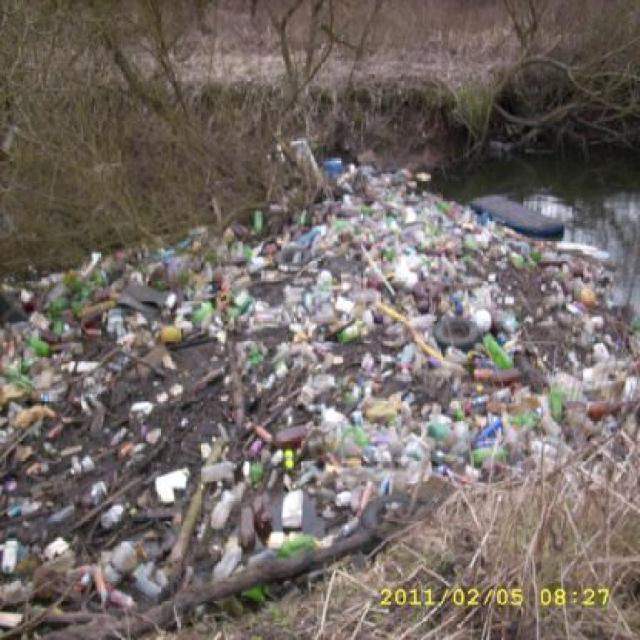garbage: (297, 160, 634, 478), (0, 275, 152, 470), (159, 211, 292, 416), (6, 480, 369, 552), (1, 555, 284, 606), (159, 423, 293, 478), (374, 486, 436, 530), (52, 246, 156, 272), (485, 137, 510, 151)
